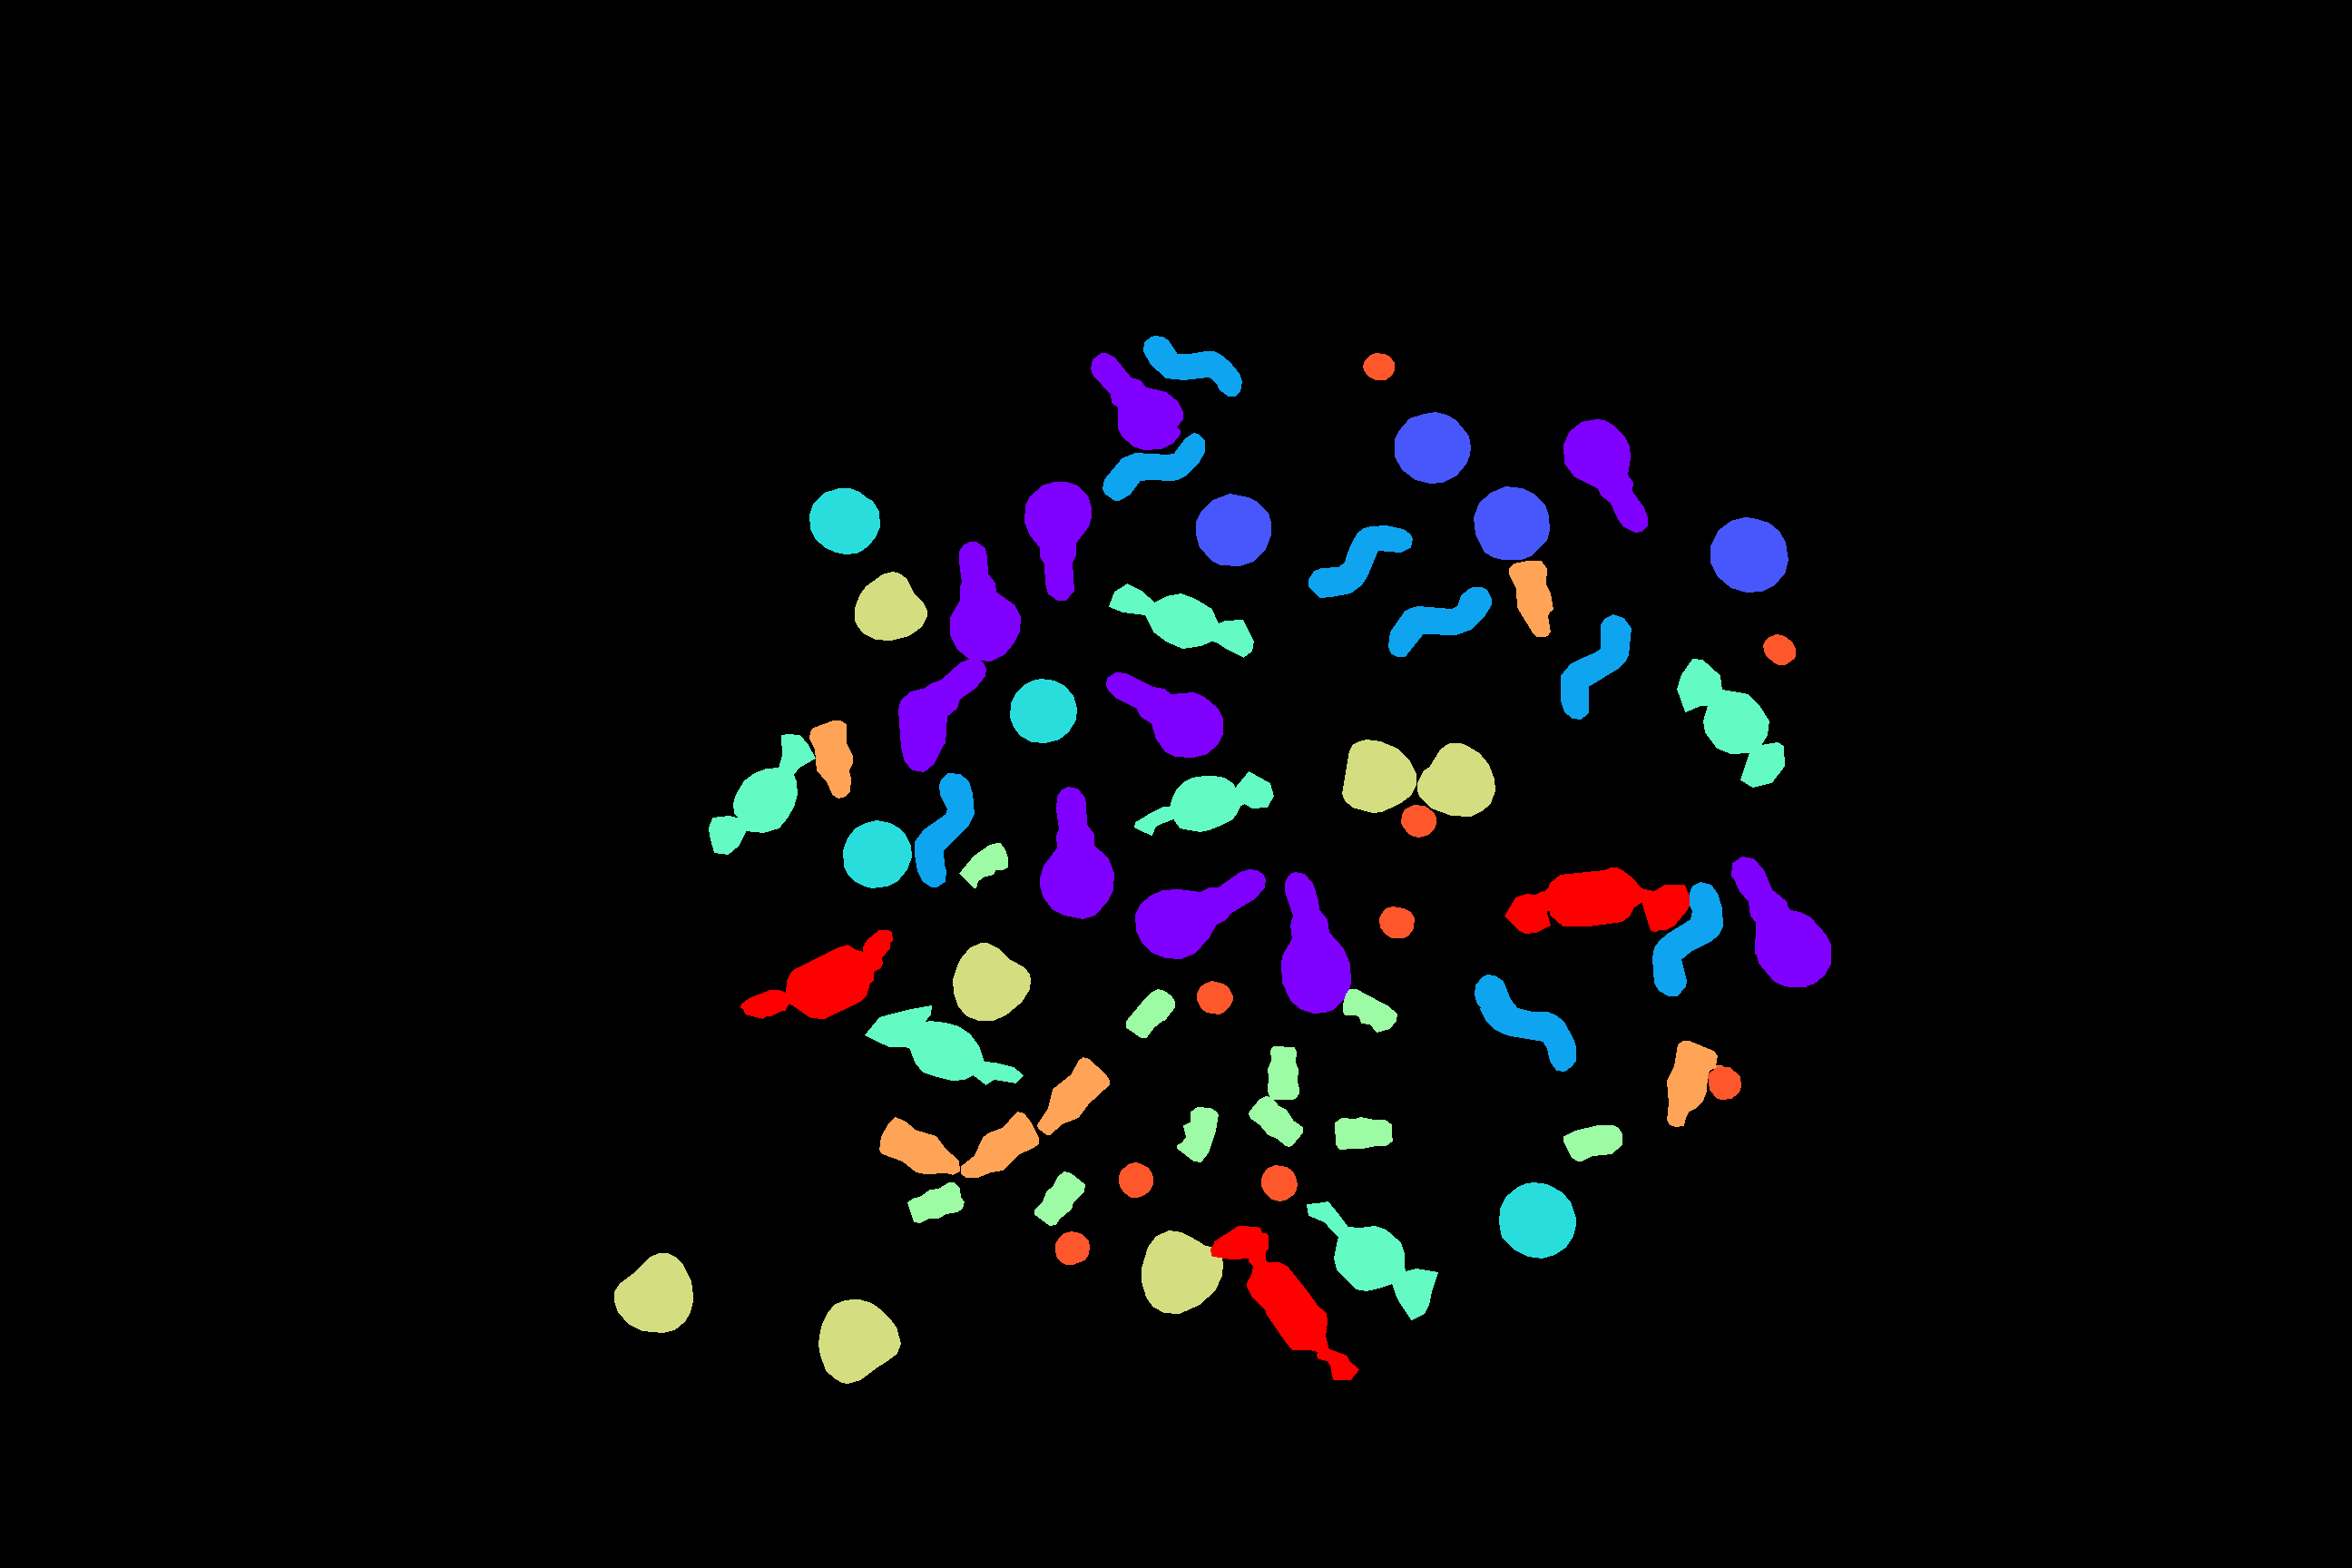apricot_jellies: (819, 1300, 901, 1383), (1141, 1230, 1221, 1313), (614, 1253, 693, 1332), (952, 943, 1031, 1020), (1417, 744, 1494, 816), (1342, 740, 1416, 812), (854, 572, 926, 640)
bear: (1248, 1095, 1302, 1146), (1034, 1171, 1085, 1225), (1125, 989, 1174, 1038), (1342, 989, 1396, 1032), (1178, 1108, 1218, 1162), (908, 1183, 964, 1221), (959, 843, 1008, 887), (1563, 1125, 1622, 1160), (1335, 1117, 1391, 1148), (1267, 1046, 1298, 1099)
coin_candy: (1710, 518, 1787, 591), (1195, 494, 1270, 565), (1395, 411, 1470, 483), (1473, 486, 1549, 558)
cola bottle candies: (1038, 1057, 1109, 1134), (961, 1111, 1038, 1178), (878, 1117, 959, 1174), (1668, 1041, 1722, 1125), (1509, 560, 1552, 635), (810, 721, 852, 798)
dummies: (1731, 856, 1830, 987), (1136, 870, 1265, 959), (898, 658, 985, 772), (1281, 871, 1351, 1013), (1106, 672, 1221, 756), (1040, 788, 1113, 919), (1563, 420, 1647, 532), (1090, 353, 1183, 450), (950, 542, 1020, 660), (1024, 481, 1090, 600)
riesen: (1211, 1227, 1358, 1379), (740, 929, 892, 1019), (1505, 868, 1689, 933)
skittles: (1118, 1162, 1153, 1197), (1262, 1166, 1297, 1200), (1706, 1066, 1741, 1099), (1379, 906, 1414, 938), (1197, 982, 1232, 1013), (1402, 805, 1435, 837), (1055, 1232, 1089, 1264), (1762, 633, 1796, 665), (1363, 353, 1393, 380)
sourworms: (1475, 975, 1575, 1071), (1652, 882, 1722, 996), (1309, 525, 1412, 597), (1561, 614, 1631, 719), (1388, 586, 1491, 656), (1102, 432, 1204, 500), (915, 773, 973, 887), (1143, 336, 1241, 396)
tofifee: (1500, 1183, 1575, 1258), (843, 821, 912, 887), (810, 488, 878, 553), (1010, 679, 1076, 742)
vollmilch_brocken: (1307, 1202, 1437, 1319), (1677, 658, 1783, 788), (709, 733, 816, 854), (865, 1006, 1022, 1085), (1109, 583, 1253, 656), (1134, 772, 1272, 835)
